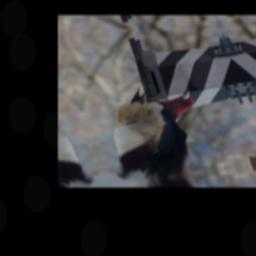Woodpecker: (94, 81, 223, 185)
